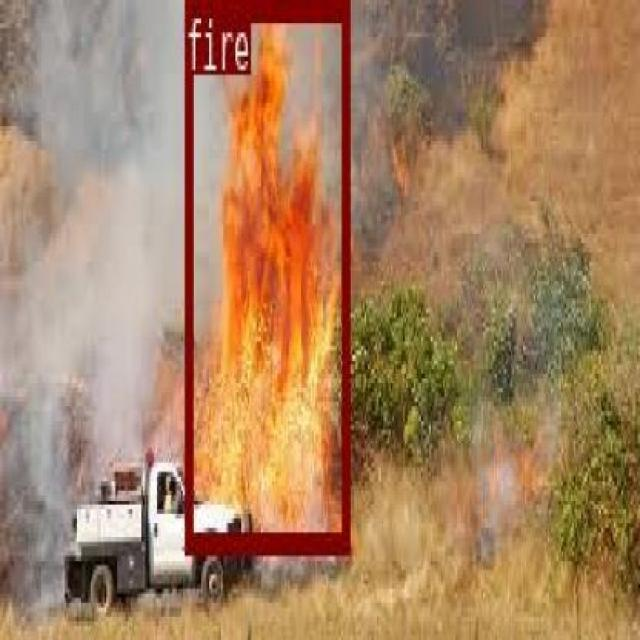Fire: (163, 276, 264, 551)
